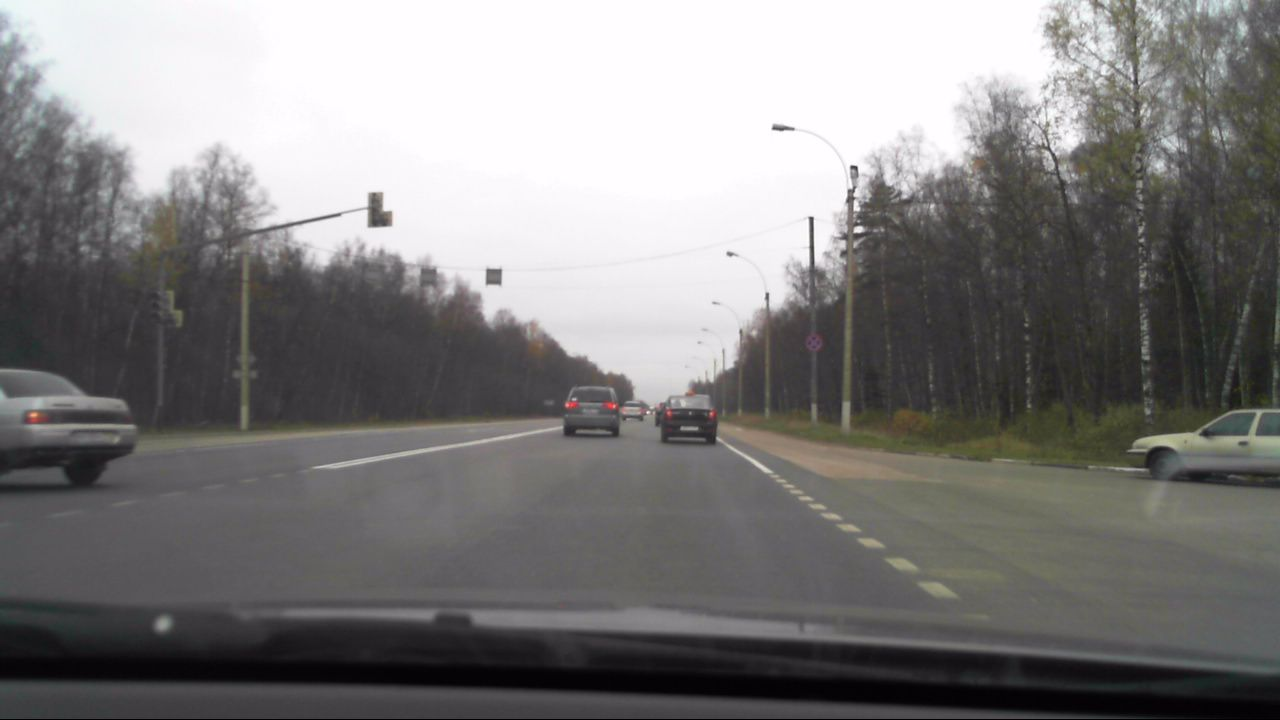No Parking: (803, 330, 825, 352)
